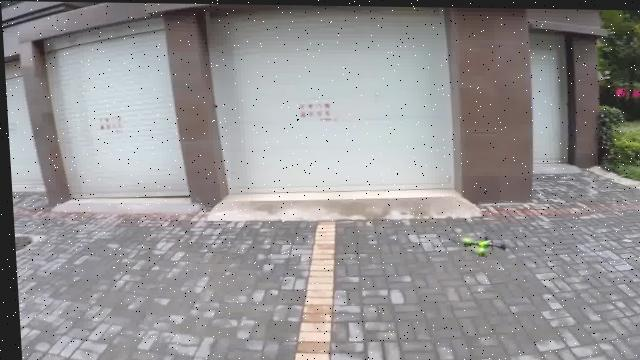drone: (447, 223, 517, 256)
